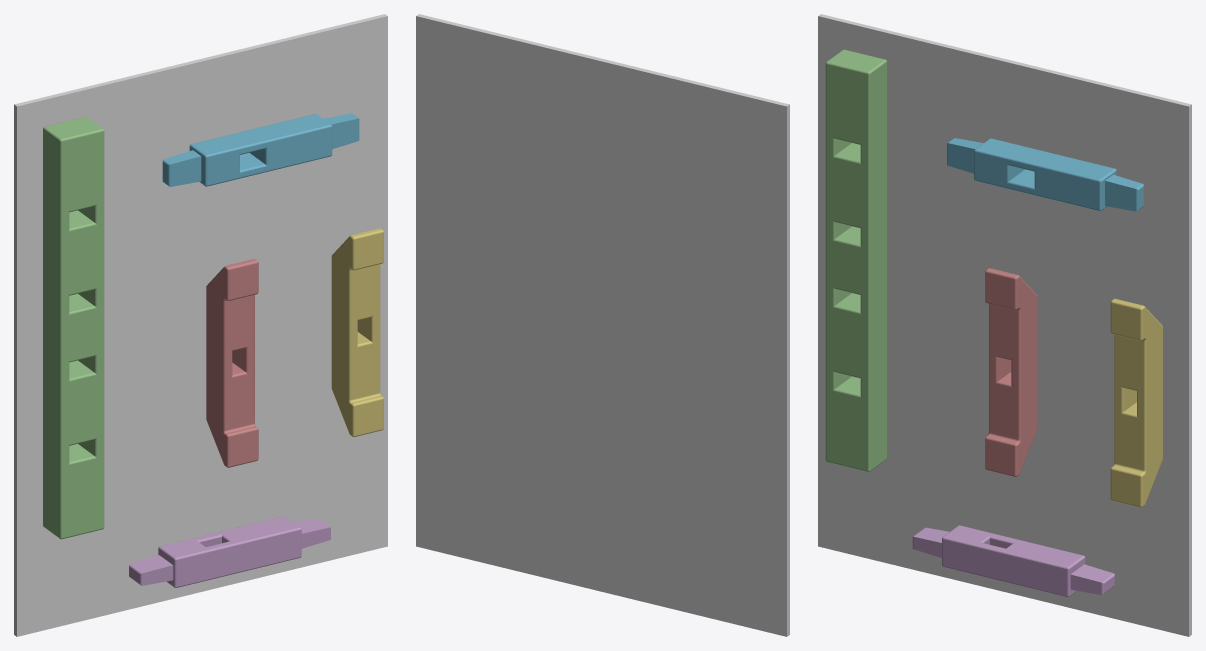
Rendered from pickup_layout.glb.
3 views of the same model, side by side, from view 1: azimuth 30°, elevation 25°; view 2: azimuth 150°, elevation 25°; view 3: azimuth 330°, elevation 25° (orthographic).
Visible parts, largest first — view 1: world, 6.obj, 1.obj, 0.obj, 2.obj, 3.obj; view 2: world; view 3: world, 6.obj, 1.obj, 0.obj, 2.obj, 3.obj.
Boxes of the visible parts, bbox=[...] form: world: bbox=[14, 14, 387, 636]; 6.obj: bbox=[43, 117, 104, 539]; 1.obj: bbox=[331, 228, 383, 437]; 0.obj: bbox=[206, 259, 258, 467]; 2.obj: bbox=[162, 113, 359, 186]; 3.obj: bbox=[129, 516, 330, 587]; world: bbox=[416, 14, 789, 636]; world: bbox=[818, 14, 1191, 636]; 6.obj: bbox=[825, 49, 886, 471]; 1.obj: bbox=[1110, 298, 1162, 507]; 0.obj: bbox=[985, 268, 1037, 476]; 2.obj: bbox=[947, 138, 1143, 211]; 3.obj: bbox=[912, 525, 1114, 597].
Size of the model in its own units: 14.77 by 20.2 by 1.72.
